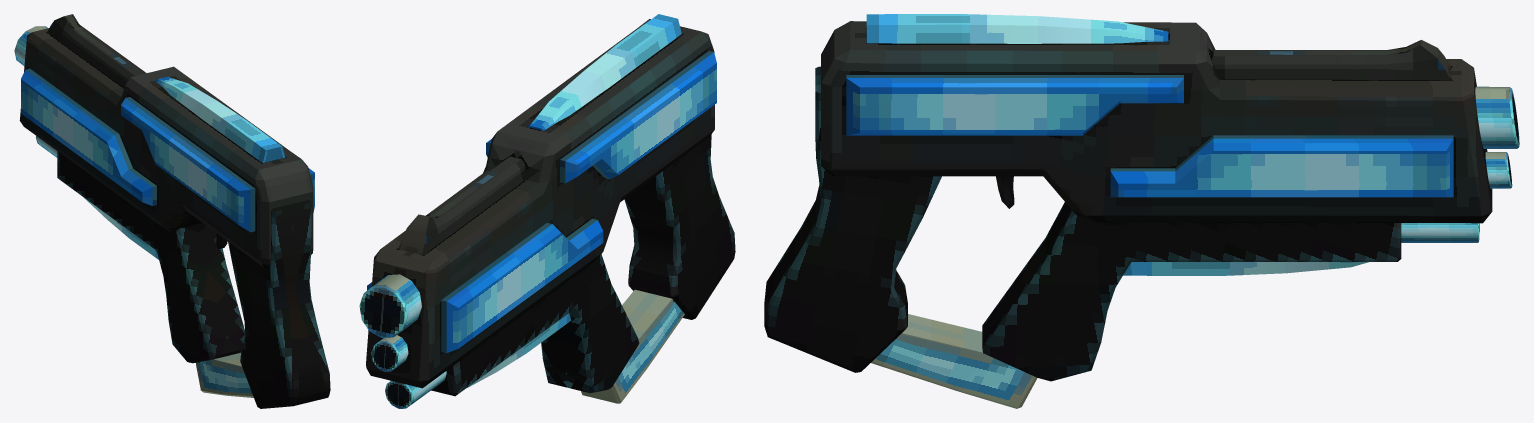
Rendered from Lazer.fbx.
3 views of the same model, side by side, from view 1: azimuth 30°, elevation 25°; view 2: azimuth 150°, elevation 25°; view 3: azimuth 270°, elevation 25° (orthographic). The views are drawn at different scales.
Visible parts, largest first — view 1: Lazer; view 2: Lazer; view 3: Lazer.
Boxes of the visible parts, bbox=[...] form: Lazer: bbox=[14, 14, 330, 408]; Lazer: bbox=[359, 14, 735, 408]; Lazer: bbox=[764, 14, 1519, 408].
Size of the model in its own units: 59.7 by 209 by 376.
Materials: 1 (1 with a texture image).
